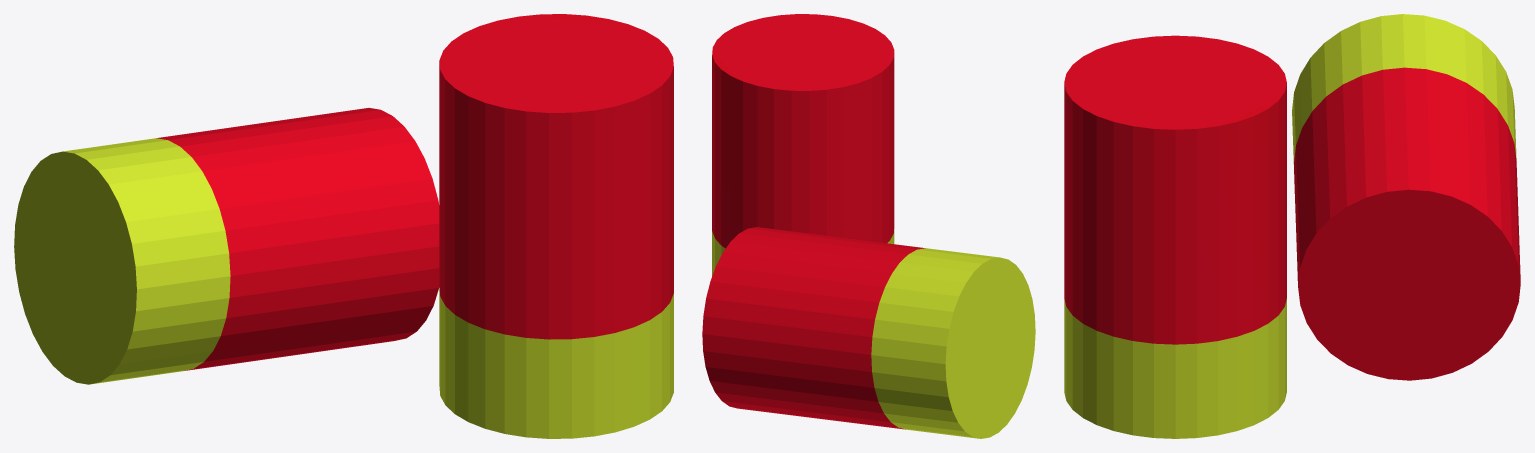
Rendered from shotgunshells 1.fbx.
3 renders of one model, left to right at view 1: azimuth 30°, elevation 25°; view 2: azimuth 150°, elevation 25°; view 3: azimuth 270°, elevation 25°, orthographic. The views are drawn at different scales.
Visible parts, largest first — view 1: Cylinder; view 2: Cylinder; view 3: Cylinder.
Part boxes in pixels (box(x1,y1,x2,y2)): Cylinder: box(14, 14, 673, 438); Cylinder: box(702, 14, 1035, 438); Cylinder: box(1064, 14, 1520, 438).
Bounding box in the file's own units: 466 × 324 × 410.
